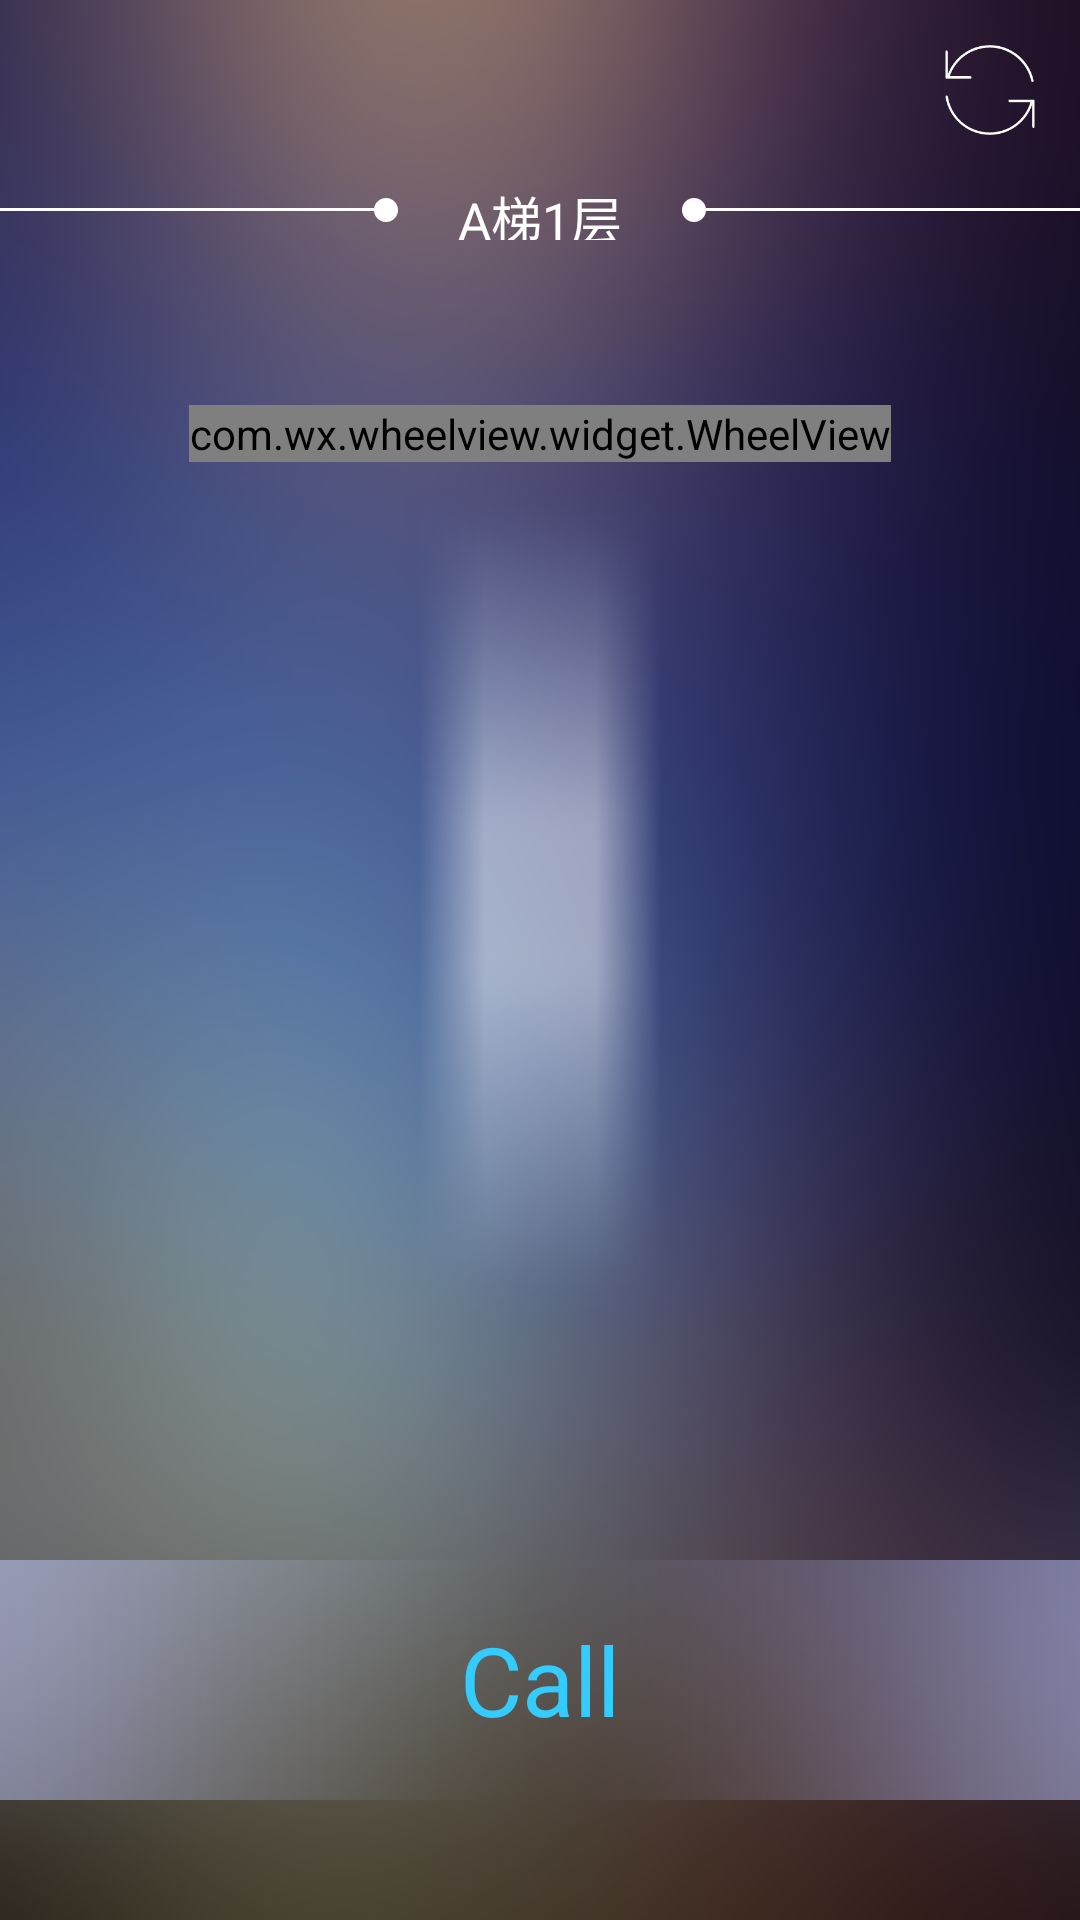

Icons on this 1080x1920 Android screen, each with its box as (x1, y1, x2, y2):
refresh: (945, 45, 1035, 135)
